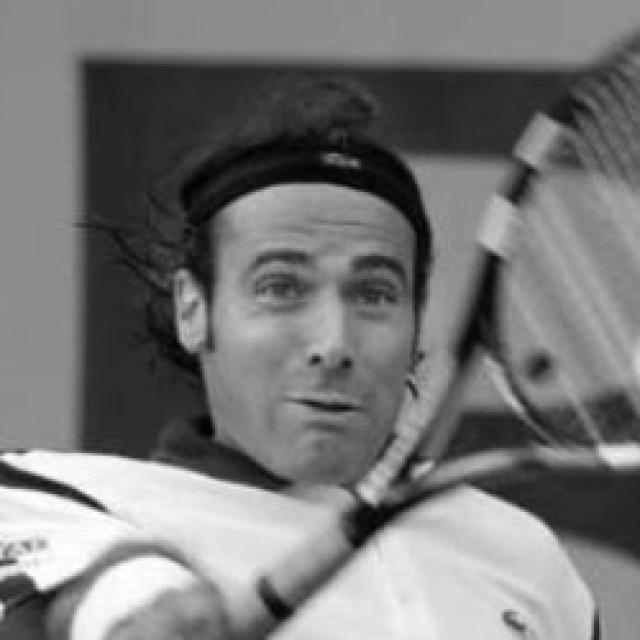real: (210, 189, 414, 486), (229, 253, 401, 324)
